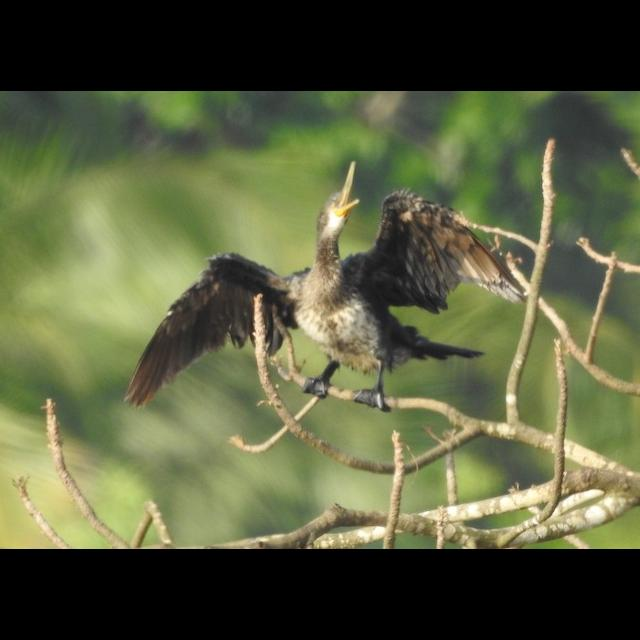cormorant: (128, 156, 528, 410)
